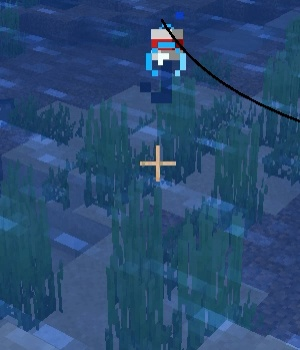up: (139, 18, 187, 99)
